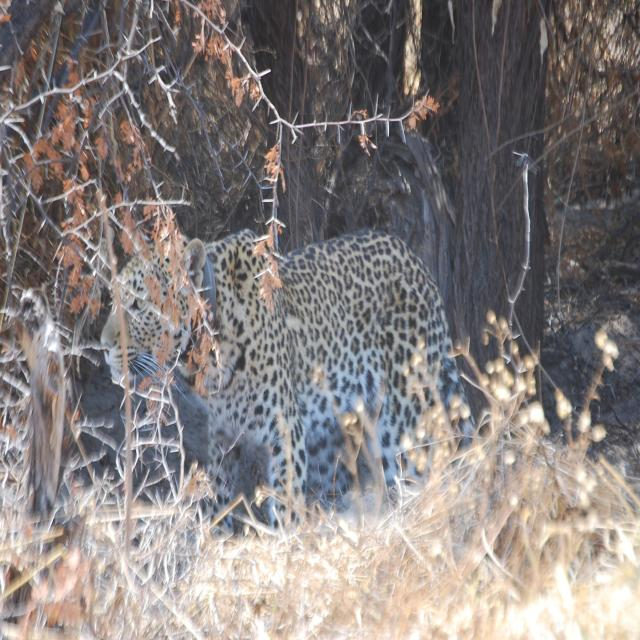Leopard: (148, 214, 498, 544)
